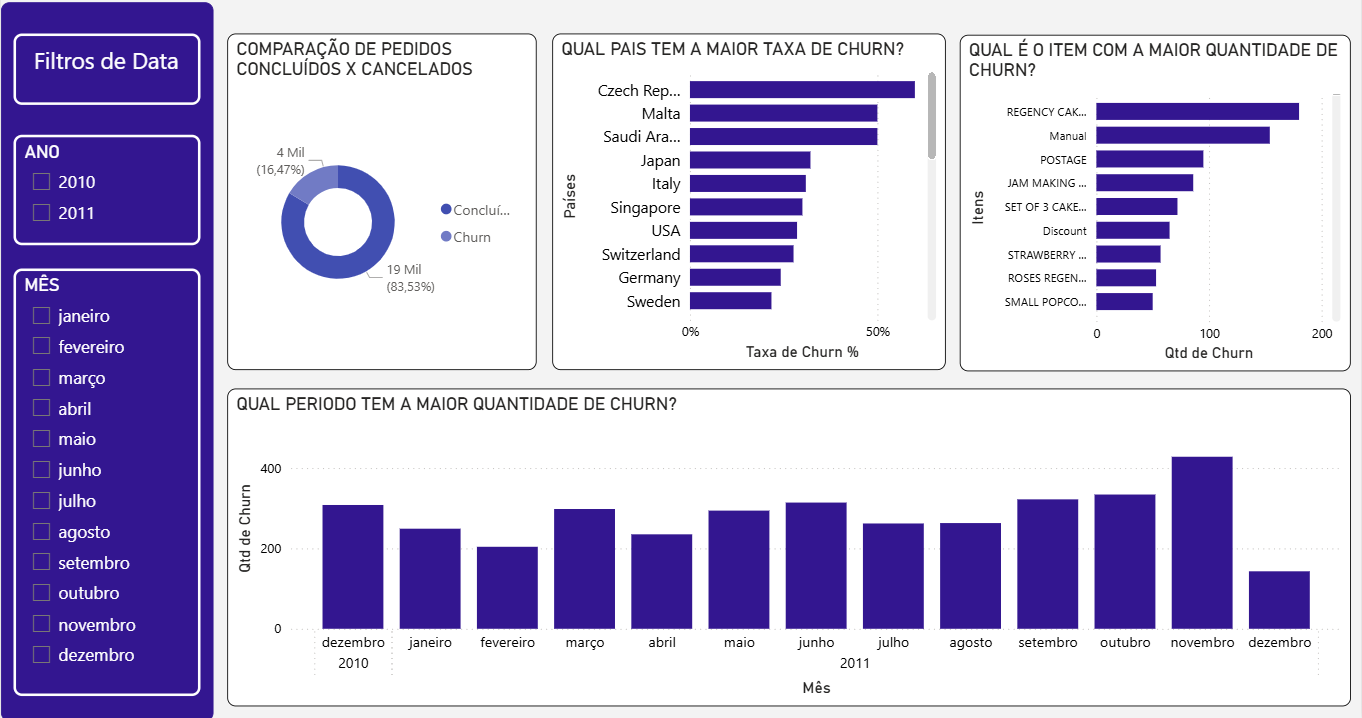

The dashboard page shown, as its layout file describes it:
{"tool":"powerbi","page":{"name":"Página 2","canvas":[1280,720],"ordinal":1},"visuals":[{"type":"clusteredColumnChart","title":"QUAL PERIODO TEM A MAIOR QUANTIDADE DE CHURN?","fields":{"Y":["Medidas.Qtd de Churn"],"Category":["Calendario.Date.Variation.Hierarquia de datas.Ano","Calendario.Date.Variation.Hierarquia de datas.Mês"]},"box":[212.7,407.5,1058,299.1],"z":0},{"type":"textbox","box":[0,43.9,200.3,676.5],"z":500},{"type":"clusteredBarChart","title":"QUAL PAIS TEM A MAIOR TAXA DE CHURN?","fields":{"Category":["analytics dim_clientes.country"],"Y":["Medidas.Taxa de Churn %"]},"box":[518.7,72.7,370.5,317],"z":1000},{"type":"donutChart","title":"COMPARAÇÃO DE PEDIDOS CONCLUÍDOS X CANCELADOS","fields":{"Y":["Medidas.Qtd Concluídos","Medidas.Qtd de Churn"]},"box":[212.7,72.7,290.9,317],"z":2000},{"type":"clusteredBarChart","title":"QUAL É O ITEM COM A MAIOR QUANTIDADE DE CHURN?","fields":{"Category":["analytics dim_produtos.description"],"Y":["Medidas.Qtd de Churn"]},"box":[902.9,74.1,367.8,317],"z":3000},{"type":"slicer","title":"MÊS","fields":{"Values":["Calendario.Mês Nome"]},"box":[12.3,293.7,175.6,402.1],"z":4000},{"type":"textbox","box":[12.3,72.7,175.6,67.2],"z":5000},{"type":"slicer","title":"ANO","fields":{"Values":["Calendario.Ano"]},"box":[12.3,168.8,175.6,104.3],"z":7000}]}

Visuals, with their boxes on the page's 1280x720 design canvas (x1, y1, x2, y2). These are canvas units, not pixel positions in the 1362x718 screenshot, which may show the page scaled, cropped or inside an application window:
"QUAL PERIODO TEM A MAIOR QUANTIDADE DE CHURN?" clusteredColumnChart: bbox=[213, 408, 1271, 707]
textbox: bbox=[0, 44, 200, 720]
"QUAL PAIS TEM A MAIOR TAXA DE CHURN?" clusteredBarChart: bbox=[519, 73, 889, 390]
"COMPARAÇÃO DE PEDIDOS CONCLUÍDOS X CANCELADOS" donutChart: bbox=[213, 73, 504, 390]
"QUAL É O ITEM COM A MAIOR QUANTIDADE DE CHURN?" clusteredBarChart: bbox=[903, 74, 1271, 391]
"MÊS" slicer: bbox=[12, 294, 188, 696]
textbox: bbox=[12, 73, 188, 140]
"ANO" slicer: bbox=[12, 169, 188, 273]
